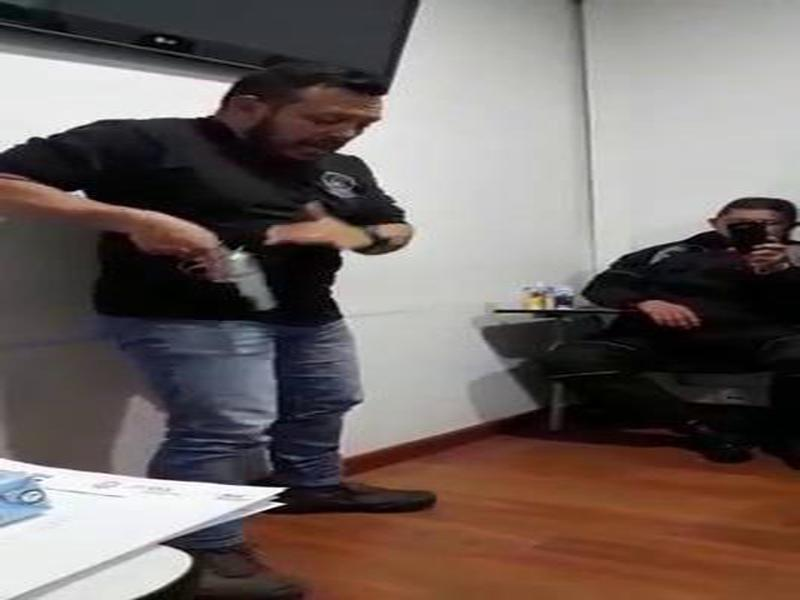Revolver: (155, 217, 277, 339)
